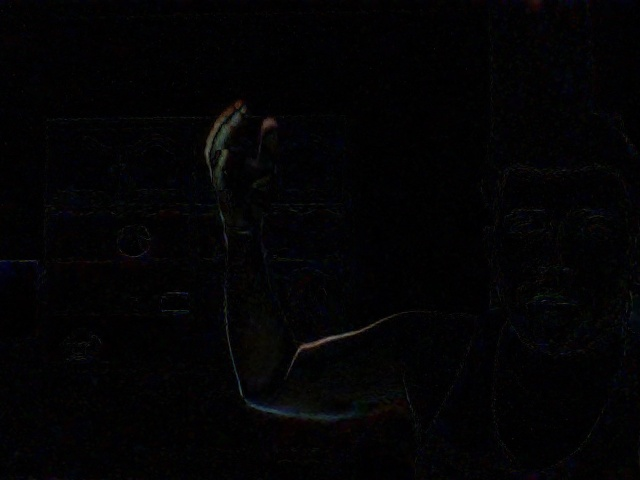arm_fo: (194, 96, 302, 416)
